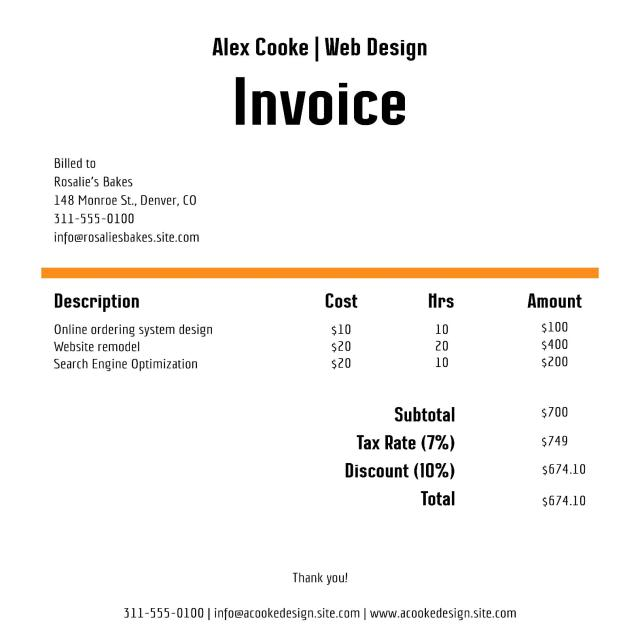paragraph: (340, 394, 595, 512), (196, 26, 452, 138), (40, 150, 216, 255), (114, 596, 541, 627), (278, 566, 360, 588)
table: (39, 280, 596, 378)
